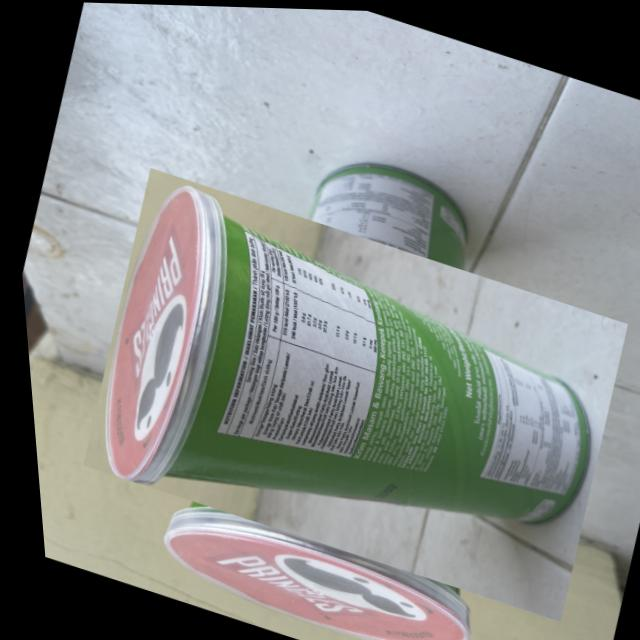a pringles: (82, 136, 615, 640)
